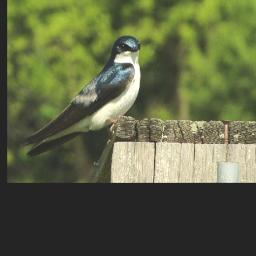Swallow: (20, 34, 143, 158)
